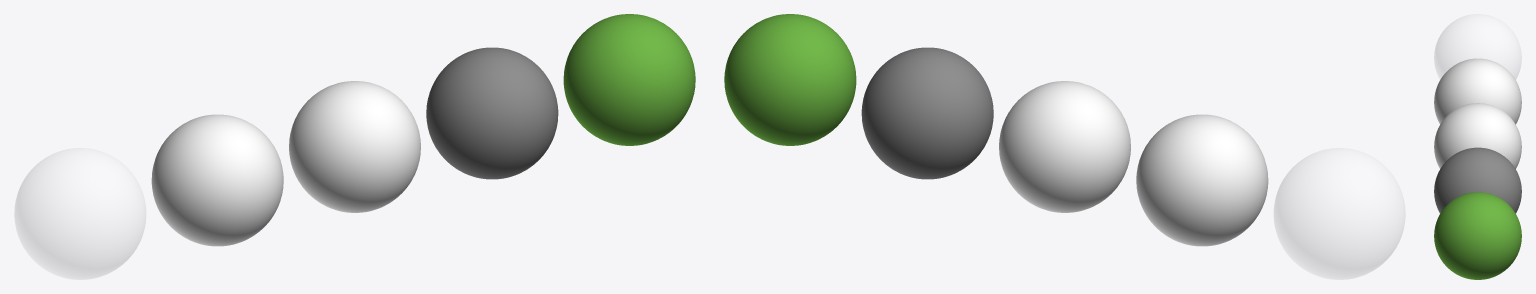
File: HDRIPreviewSpheres.glb
3 renders of one model, left to right at view 1: azimuth 30°, elevation 25°; view 2: azimuth 150°, elevation 25°; view 3: azimuth 270°, elevation 25°, orthographic. The views are drawn at different scales.
Parts seen in each view (by area): view 1: White Diffuse, Rough Metal, Glossy Green, Chrome, Glass; view 2: White Diffuse, Rough Metal, Glossy Green, Chrome, Glass; view 3: Glossy Green, White Diffuse, Chrome, Rough Metal, Glass.
Boxes of the visible parts, left/top/right/bottom form: White Diffuse: left=151, top=114, right=283, bottom=246; Rough Metal: left=426, top=47, right=558, bottom=179; Glossy Green: left=563, top=14, right=695, bottom=145; Chrome: left=289, top=81, right=420, bottom=212; Glass: left=14, top=148, right=145, bottom=279; White Diffuse: left=1136, top=114, right=1268, bottom=246; Rough Metal: left=861, top=47, right=993, bottom=179; Glossy Green: left=724, top=14, right=856, bottom=145; Chrome: left=999, top=81, right=1130, bottom=212; Glass: left=1274, top=148, right=1405, bottom=279; Glossy Green: left=1434, top=192, right=1521, bottom=279; White Diffuse: left=1434, top=58, right=1521, bottom=124; Chrome: left=1434, top=103, right=1521, bottom=168; Rough Metal: left=1434, top=147, right=1521, bottom=213; Glass: left=1434, top=14, right=1521, bottom=78.
Bounding box in the file's own units: 5.8 × 1 × 1.
